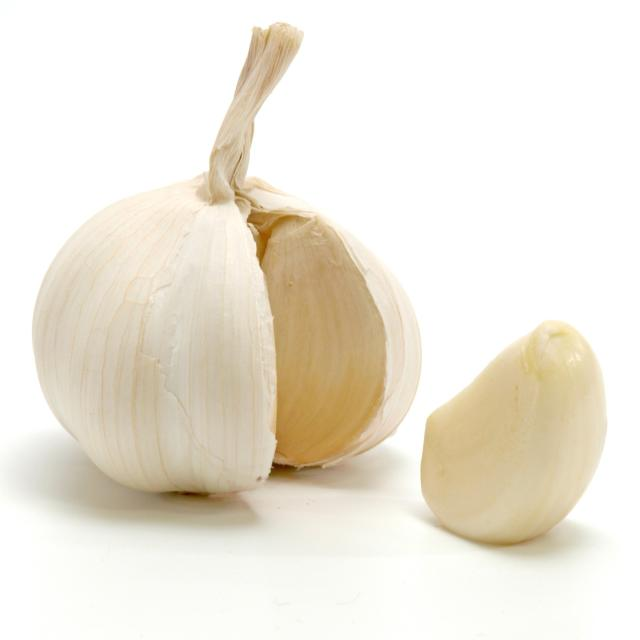garlic: (33, 23, 302, 492), (239, 177, 421, 466), (421, 320, 606, 543)
